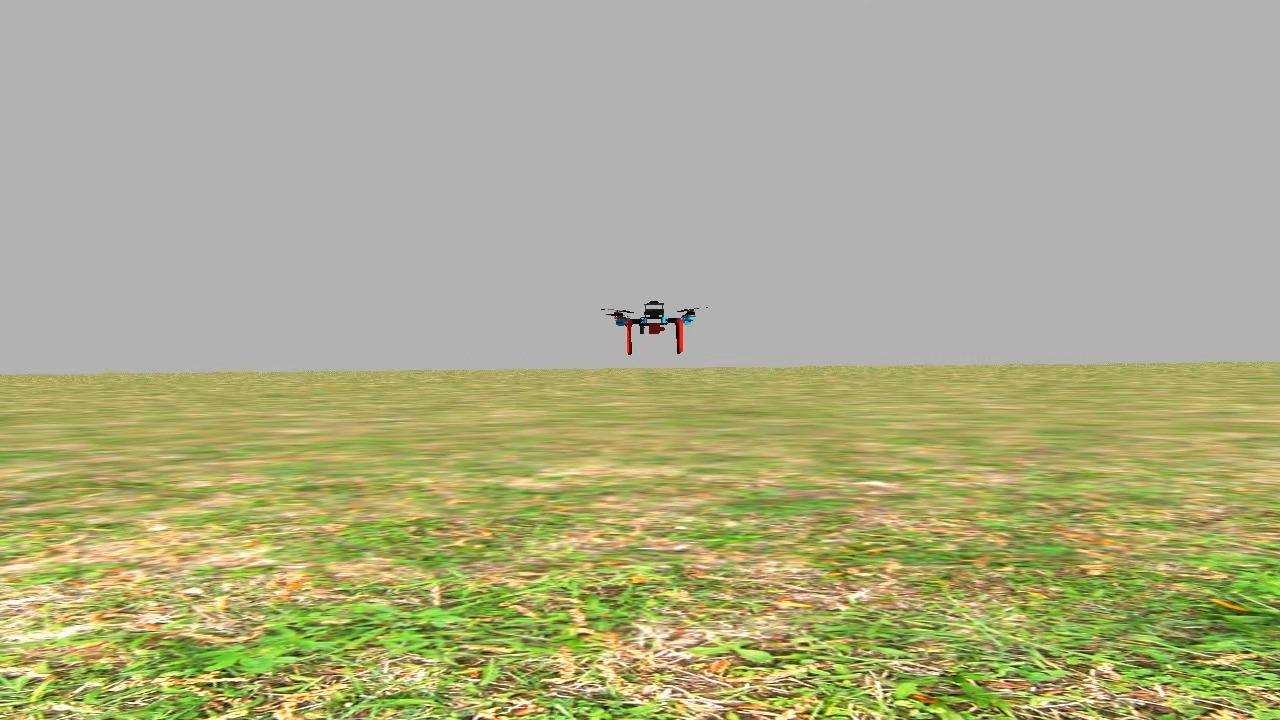UAV: (609, 297, 702, 367)
